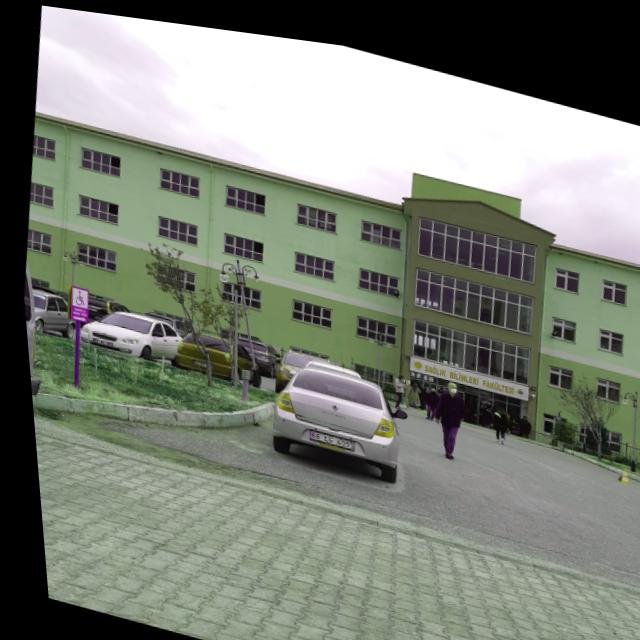license_plate: (303, 422, 349, 442)
